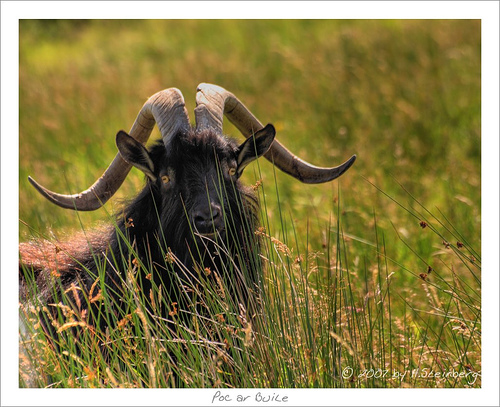goat: (20, 82, 357, 365)
